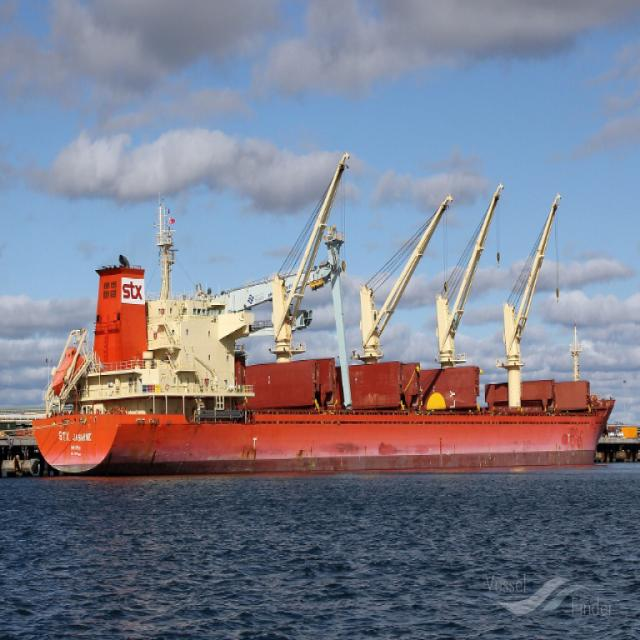OCR: (54, 425, 96, 460), (119, 280, 145, 310)
